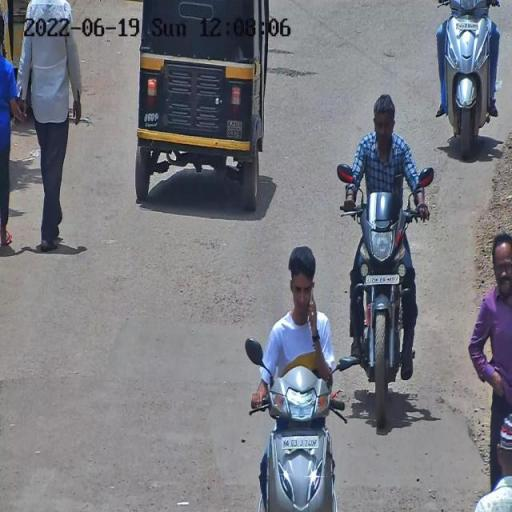using mobile: (306, 279, 318, 328)
